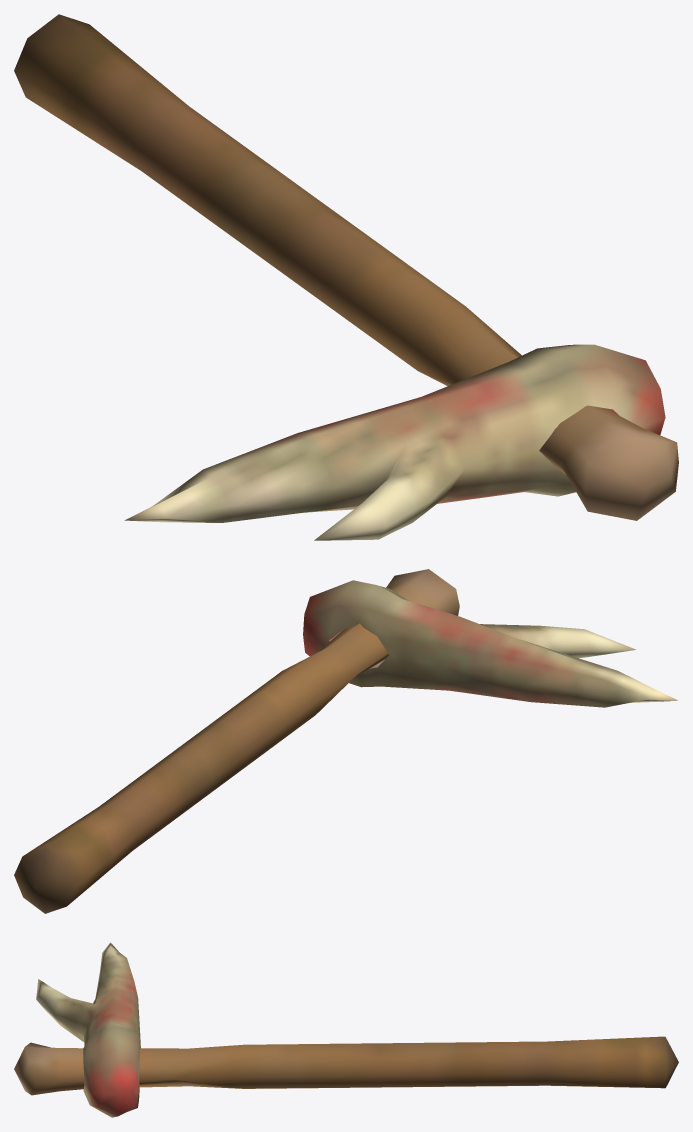
The model's file is PickaxeAntler.fbx.
The picture shows the model from 3 angles, top to bottom: view 1: azimuth 30°, elevation 25°; view 2: azimuth 150°, elevation 25°; view 3: azimuth 270°, elevation 25°; orthographic projection. The views are drawn at different scales.
Parts seen in each view (by area): view 1: pickaxe; view 2: pickaxe; view 3: pickaxe.
Boxes of the visible parts, x1,y1,x2,y2 form: pickaxe: (14,14,678,540); pickaxe: (14,569,678,913); pickaxe: (14,942,678,1117).
Size of the model in its own units: 0.5093 by 0.1337 by 0.9863.
1 material, 1 textured.
